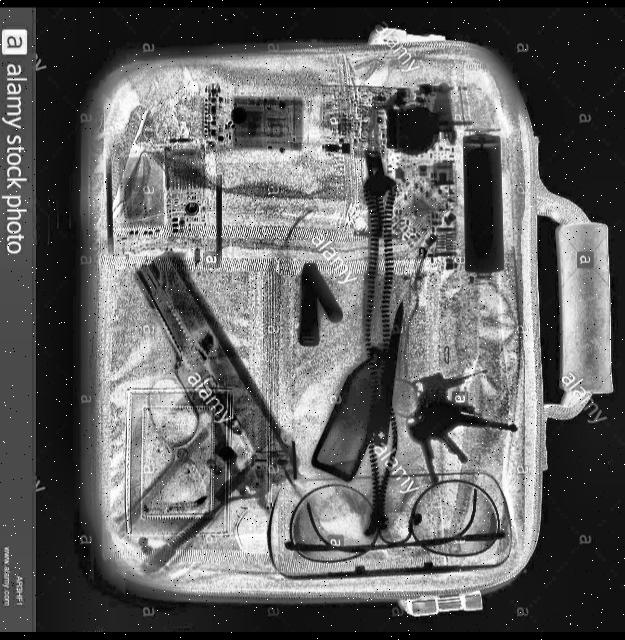Gun: (116, 252, 300, 578)
